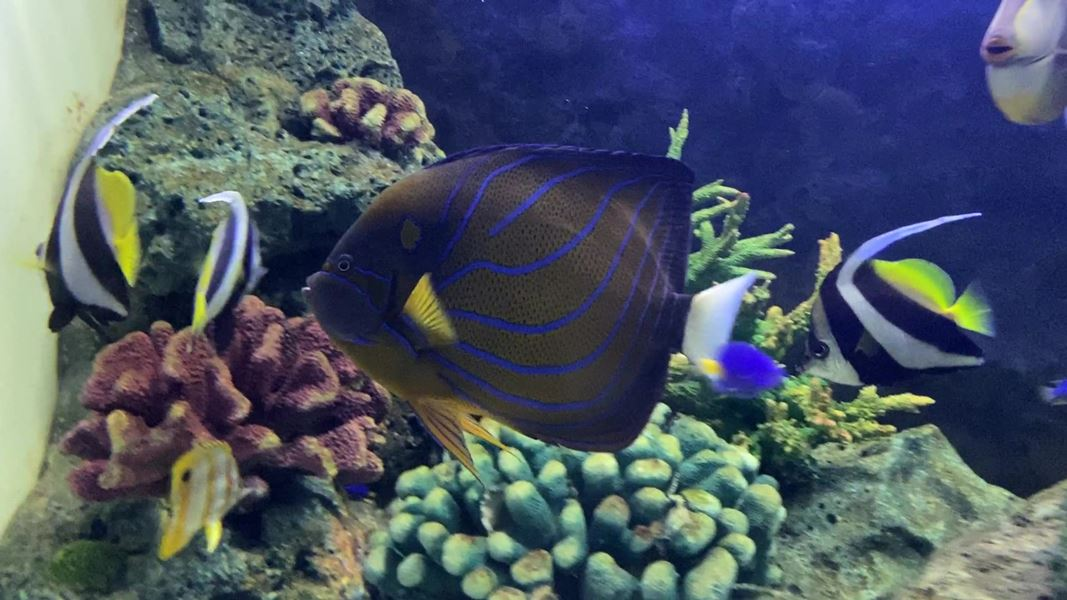Blue ring angelfish: (291, 132, 758, 480)
